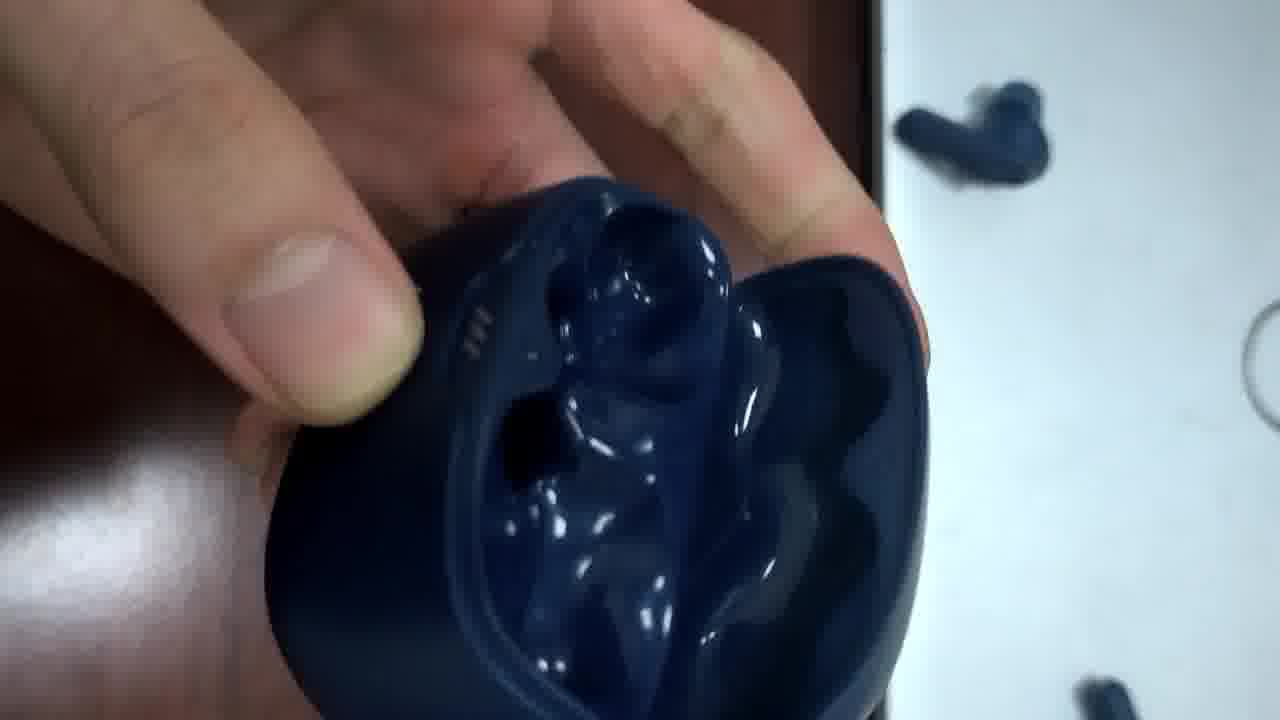Case: (275, 172, 946, 720)
Earbud: (894, 81, 1049, 184)
Empty_Slot: (480, 190, 724, 718)
